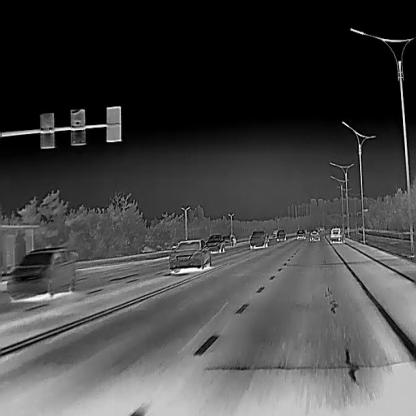car: (6, 246, 78, 302), (168, 238, 210, 273), (206, 234, 226, 253), (249, 230, 268, 249), (329, 227, 344, 243), (222, 235, 236, 248), (309, 229, 320, 241), (295, 229, 306, 240), (276, 229, 286, 240)
